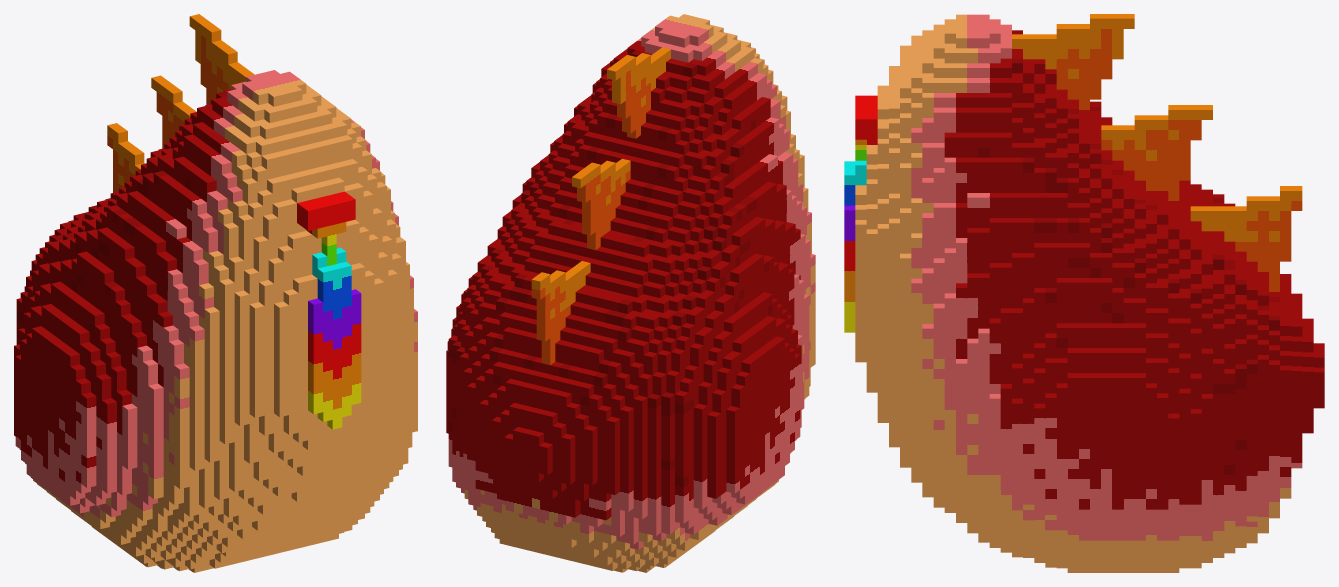
File: rainbow tie.gltf
3 views of the same model, side by side, from view 1: azimuth 30°, elevation 25°; view 2: azimuth 150°, elevation 25°; view 3: azimuth 270°, elevation 25° (orthographic). The views are drawn at different scales.
Visible parts, largest first — view 1: 04_Body_RainbowTie-Mesh; view 2: 04_Body_RainbowTie-Mesh; view 3: 04_Body_RainbowTie-Mesh.
Boxes of the visible parts, x1=… form: 04_Body_RainbowTie-Mesh: x1=14, y1=14, x2=417, y2=572; 04_Body_RainbowTie-Mesh: x1=446, y1=14, x2=815, y2=572; 04_Body_RainbowTie-Mesh: x1=844, y1=14, x2=1324, y2=572.
Bounding box in the file's own units: 33 × 51 × 43.
Materials: 1 (1 with a texture image).
